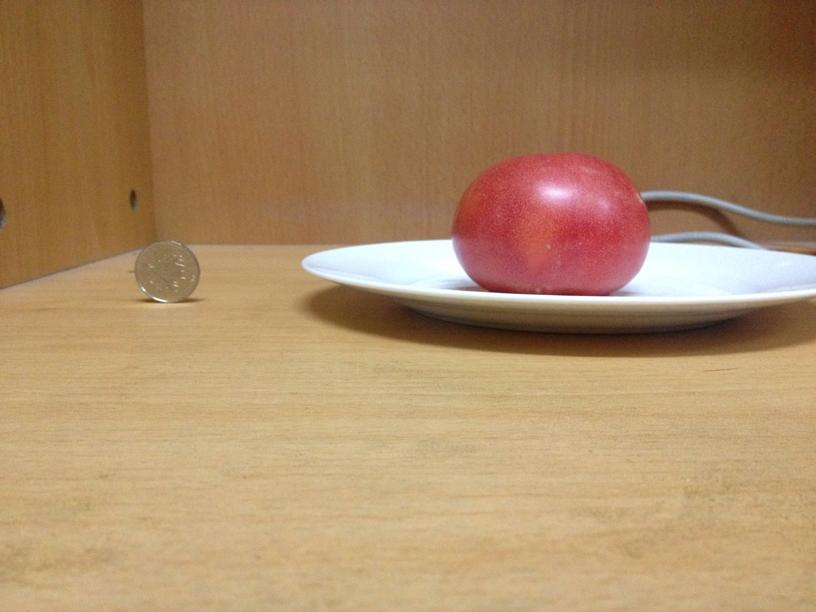coin: (127, 238, 204, 303)
tomato: (445, 154, 653, 294)
